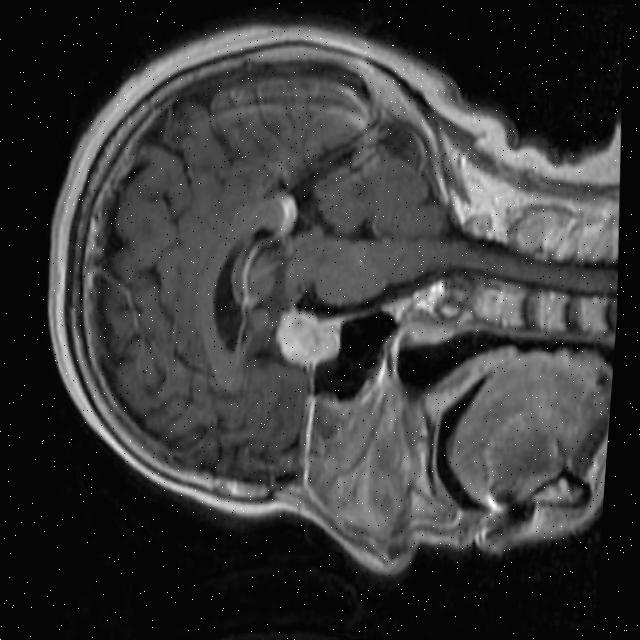Pituitary: (271, 305, 346, 367)
